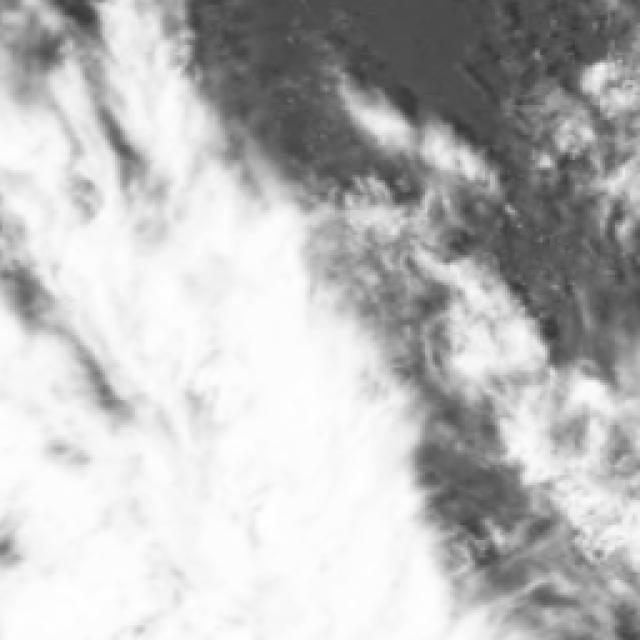CB: (237, 382, 371, 638)
